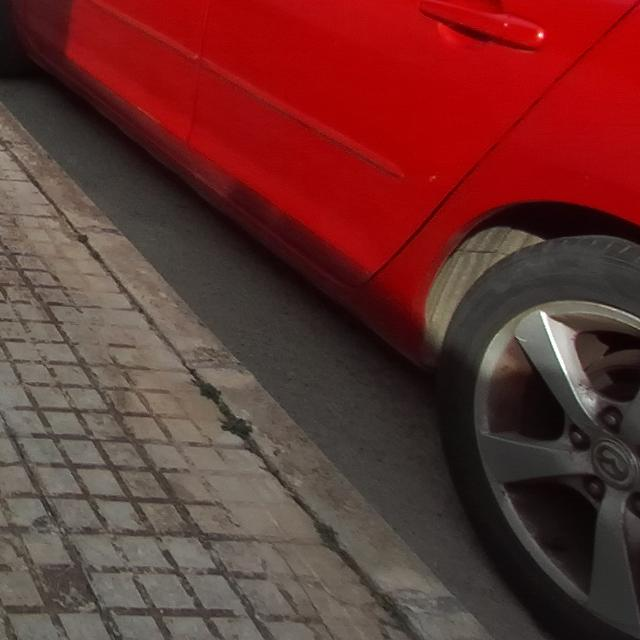calcada_quebrada: (274, 546, 335, 640)
